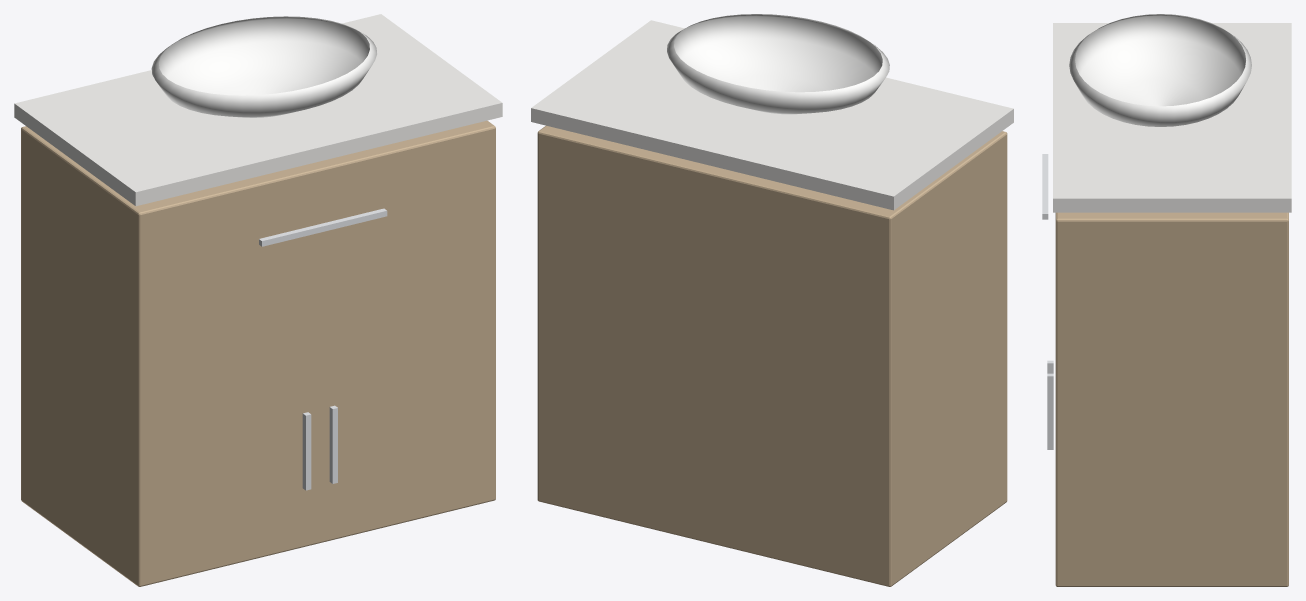
Rendered from vanity-standing-mix.glb.
3 views of the same model, side by side, from view 1: azimuth 30°, elevation 25°; view 2: azimuth 150°, elevation 25°; view 3: azimuth 270°, elevation 25° (orthographic).
Parts seen in each view (by area): view 1: body; view 2: body; view 3: body.
Part boxes in pixels (bbox=[...]): body: bbox=[14, 14, 502, 586]; body: bbox=[531, 14, 1013, 586]; body: bbox=[1042, 14, 1291, 586].
Bounding box in the file's own units: 0.82 × 0.96 × 0.491.
